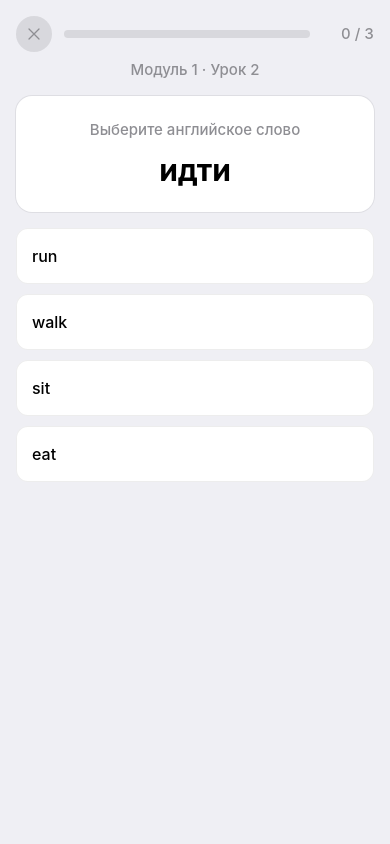
Test: TrainingView — exercises › four-choice exercises: the grade goes at the pick, the next card is held back › leaving after a pick has lost nothing: the grade is sent exactly once › after a wrong pick, by the system "Back"
Click the button with test id "option-0": coordinates (45, 256) x1=16 y1=228 x2=374 y2=284
Wait 21000 ms
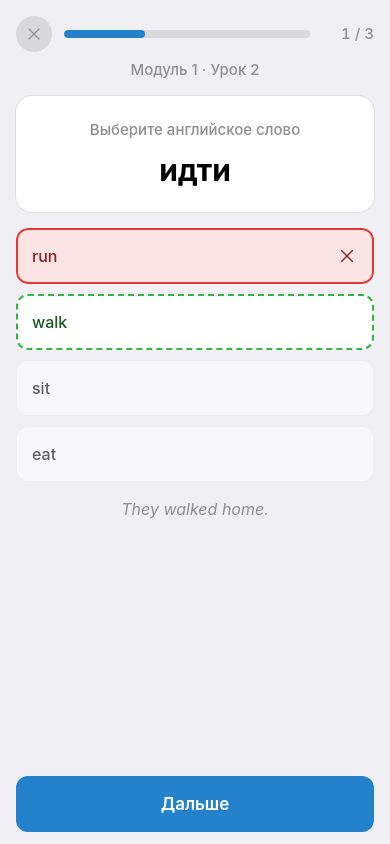
Check: the button with test id "continue-btn" is shown, box x1=16 y1=776 x2=374 y2=832
